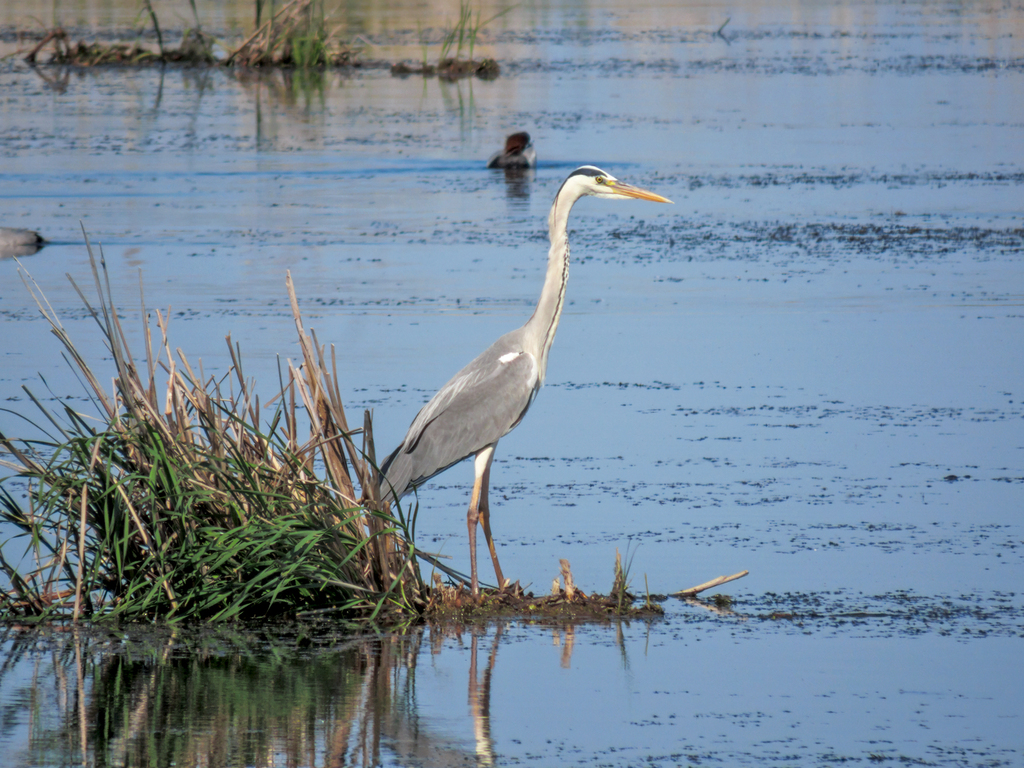heron: (364, 163, 675, 602)
